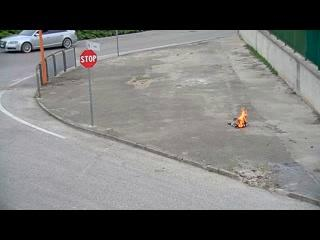fire: (234, 107, 252, 129)
